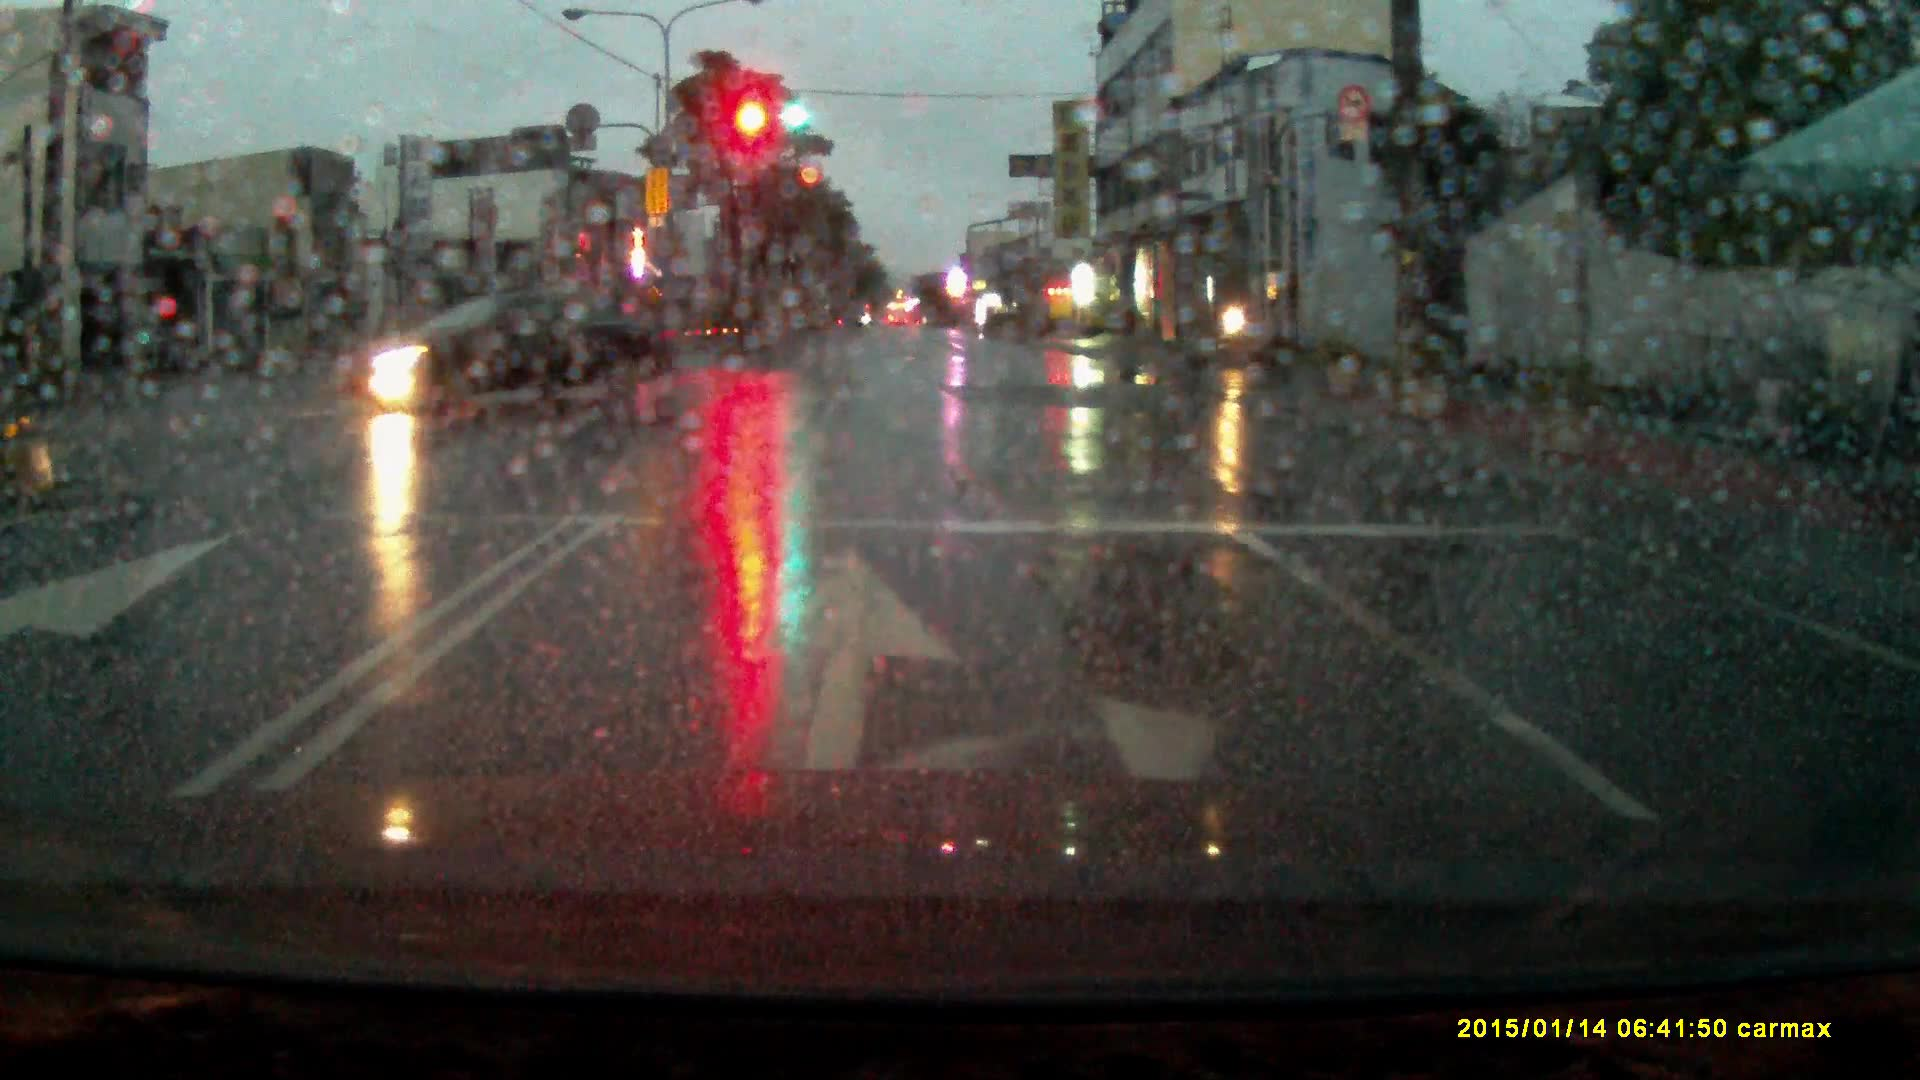rider: (1200, 281, 1287, 371)
vehicle: (336, 289, 671, 415)
